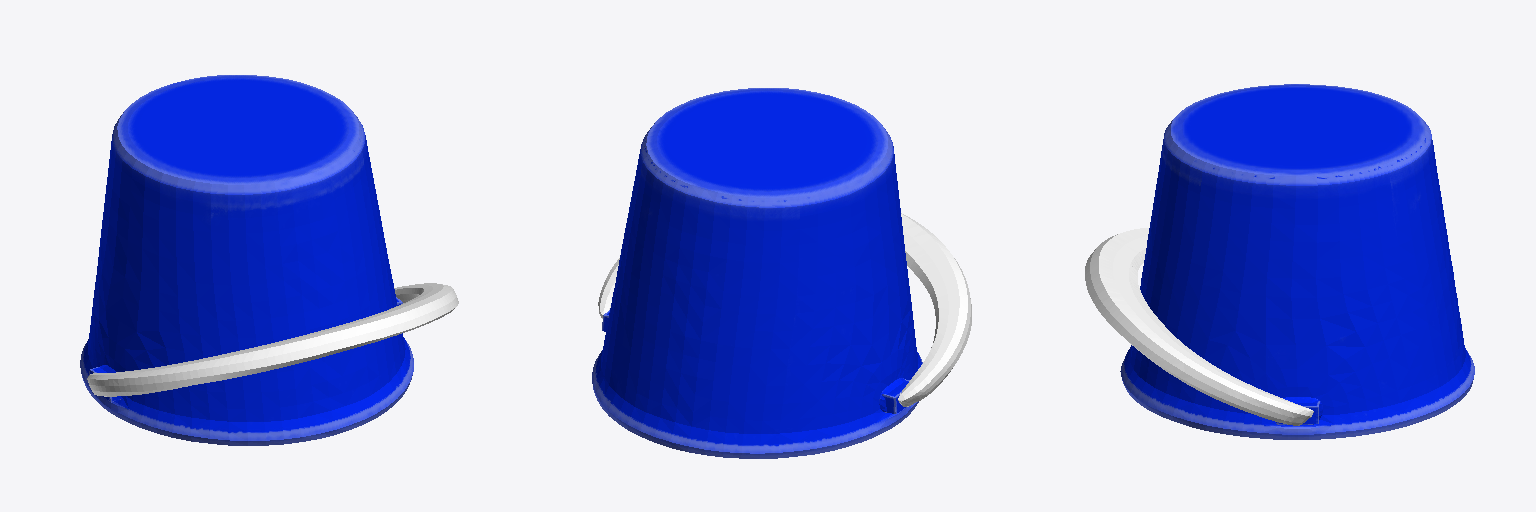
3 renders of one model, left to right at view 1: azimuth 30°, elevation 25°; view 2: azimuth 150°, elevation 25°; view 3: azimuth 270°, elevation 25°, orthographic.
Visible parts, largest first — view 1: Mesh; view 2: Mesh; view 3: Mesh.
Part boxes in pixels (left/top/right/bottom): Mesh: left=80, top=75, right=458, bottom=445; Mesh: left=592, top=88, right=971, bottom=458; Mesh: left=1085, top=84, right=1474, bottom=439.
Size of the model in its own units: 0.7942 by 0.572 by 0.7959.
Materials: 2 (1 with a texture image).